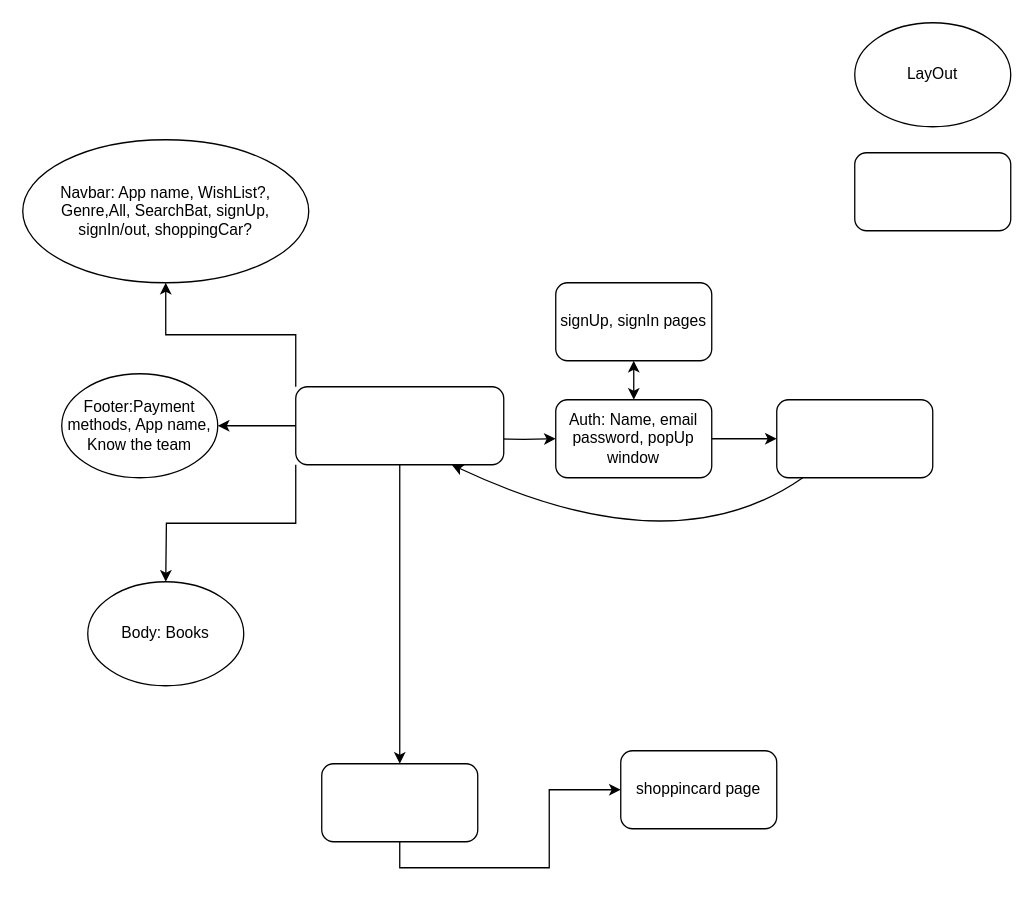
Image size: 1034x901. Some labels were removed from this diagram. The centre of each missing label's shape, as x and y in pixels:
App Flow: [932,191]
being able to buy. shopping car will show up as well as wishlist: [854,438]
Book info, add to wishlist, add to card: [399,802]
LandingPage: [399,425]
